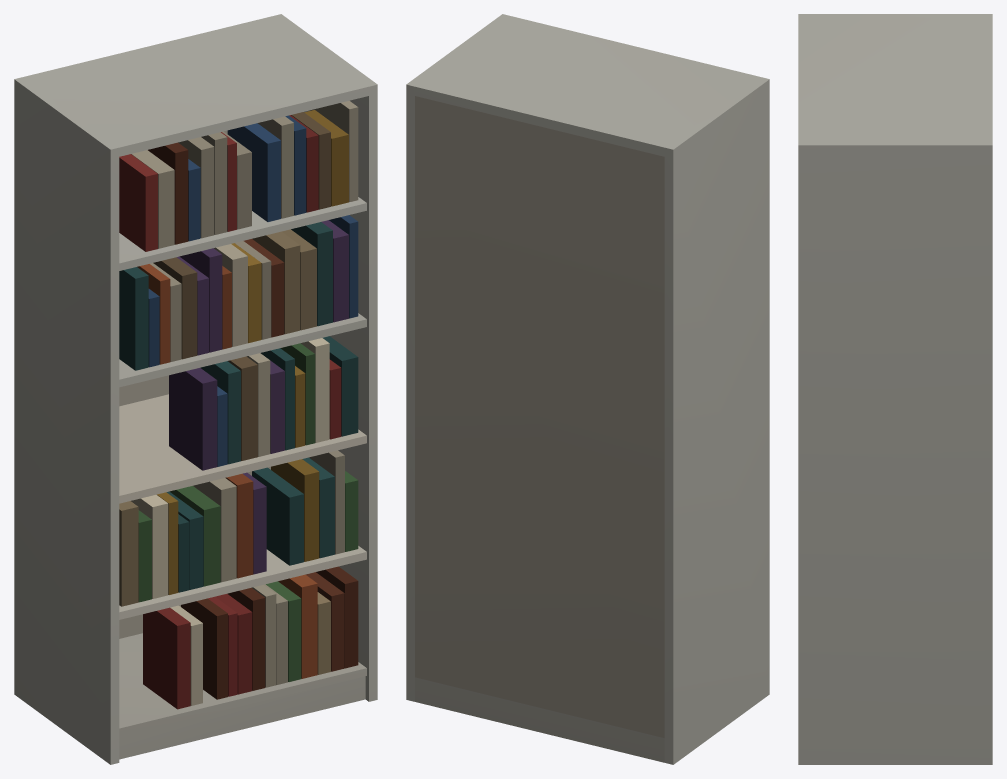
The model's file is bookcase.tall.painted.glb.
3 views of the same model, side by side, from view 1: azimuth 30°, elevation 25°; view 2: azimuth 150°, elevation 25°; view 3: azimuth 270°, elevation 25° (orthographic).
Visible parts, largest first — view 1: bookcase_tall_painted; view 2: bookcase_tall_painted; view 3: bookcase_tall_painted.
Boxes of the visible parts, bbox=[...] form: bookcase_tall_painted: bbox=[14, 14, 377, 764]; bookcase_tall_painted: bbox=[406, 14, 769, 764]; bookcase_tall_painted: bbox=[798, 14, 992, 764].
Size of what is drawn, in the model's own units: 0.909 by 2 by 0.568.
